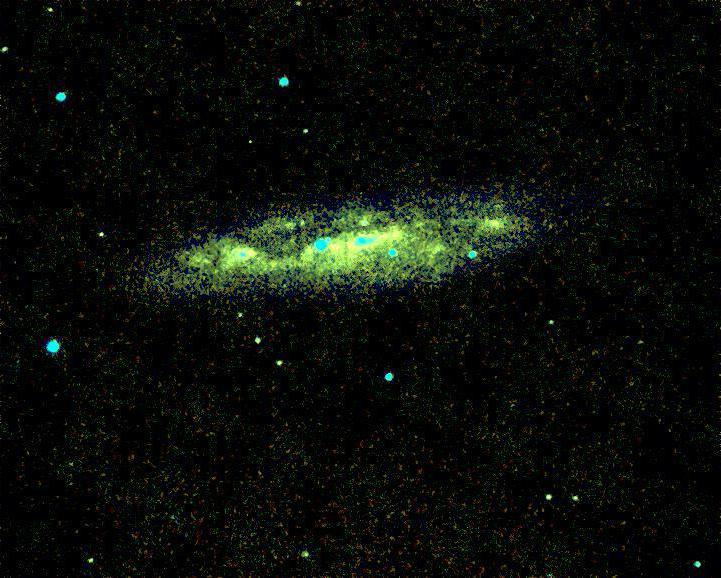star: (237, 131, 267, 161)
